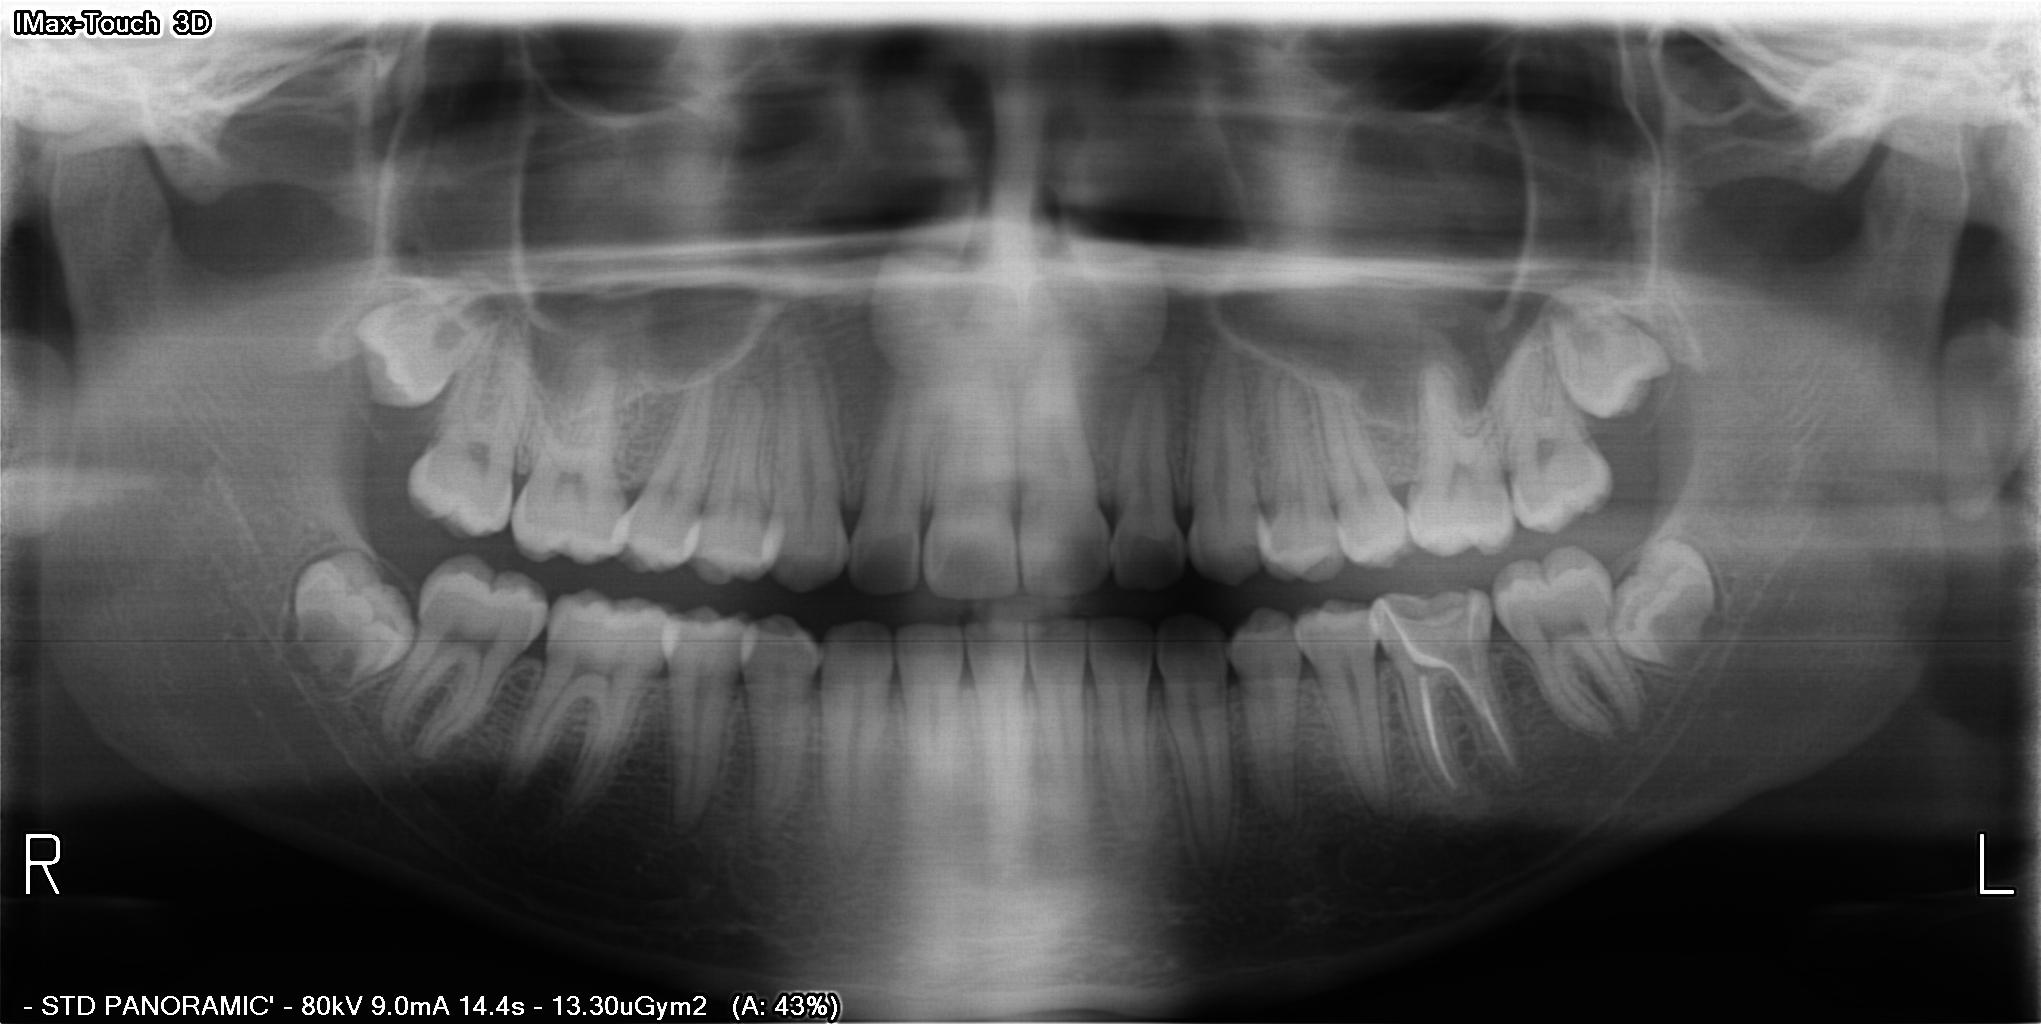Çürük Bölgesi: (1422, 622, 1477, 666)
